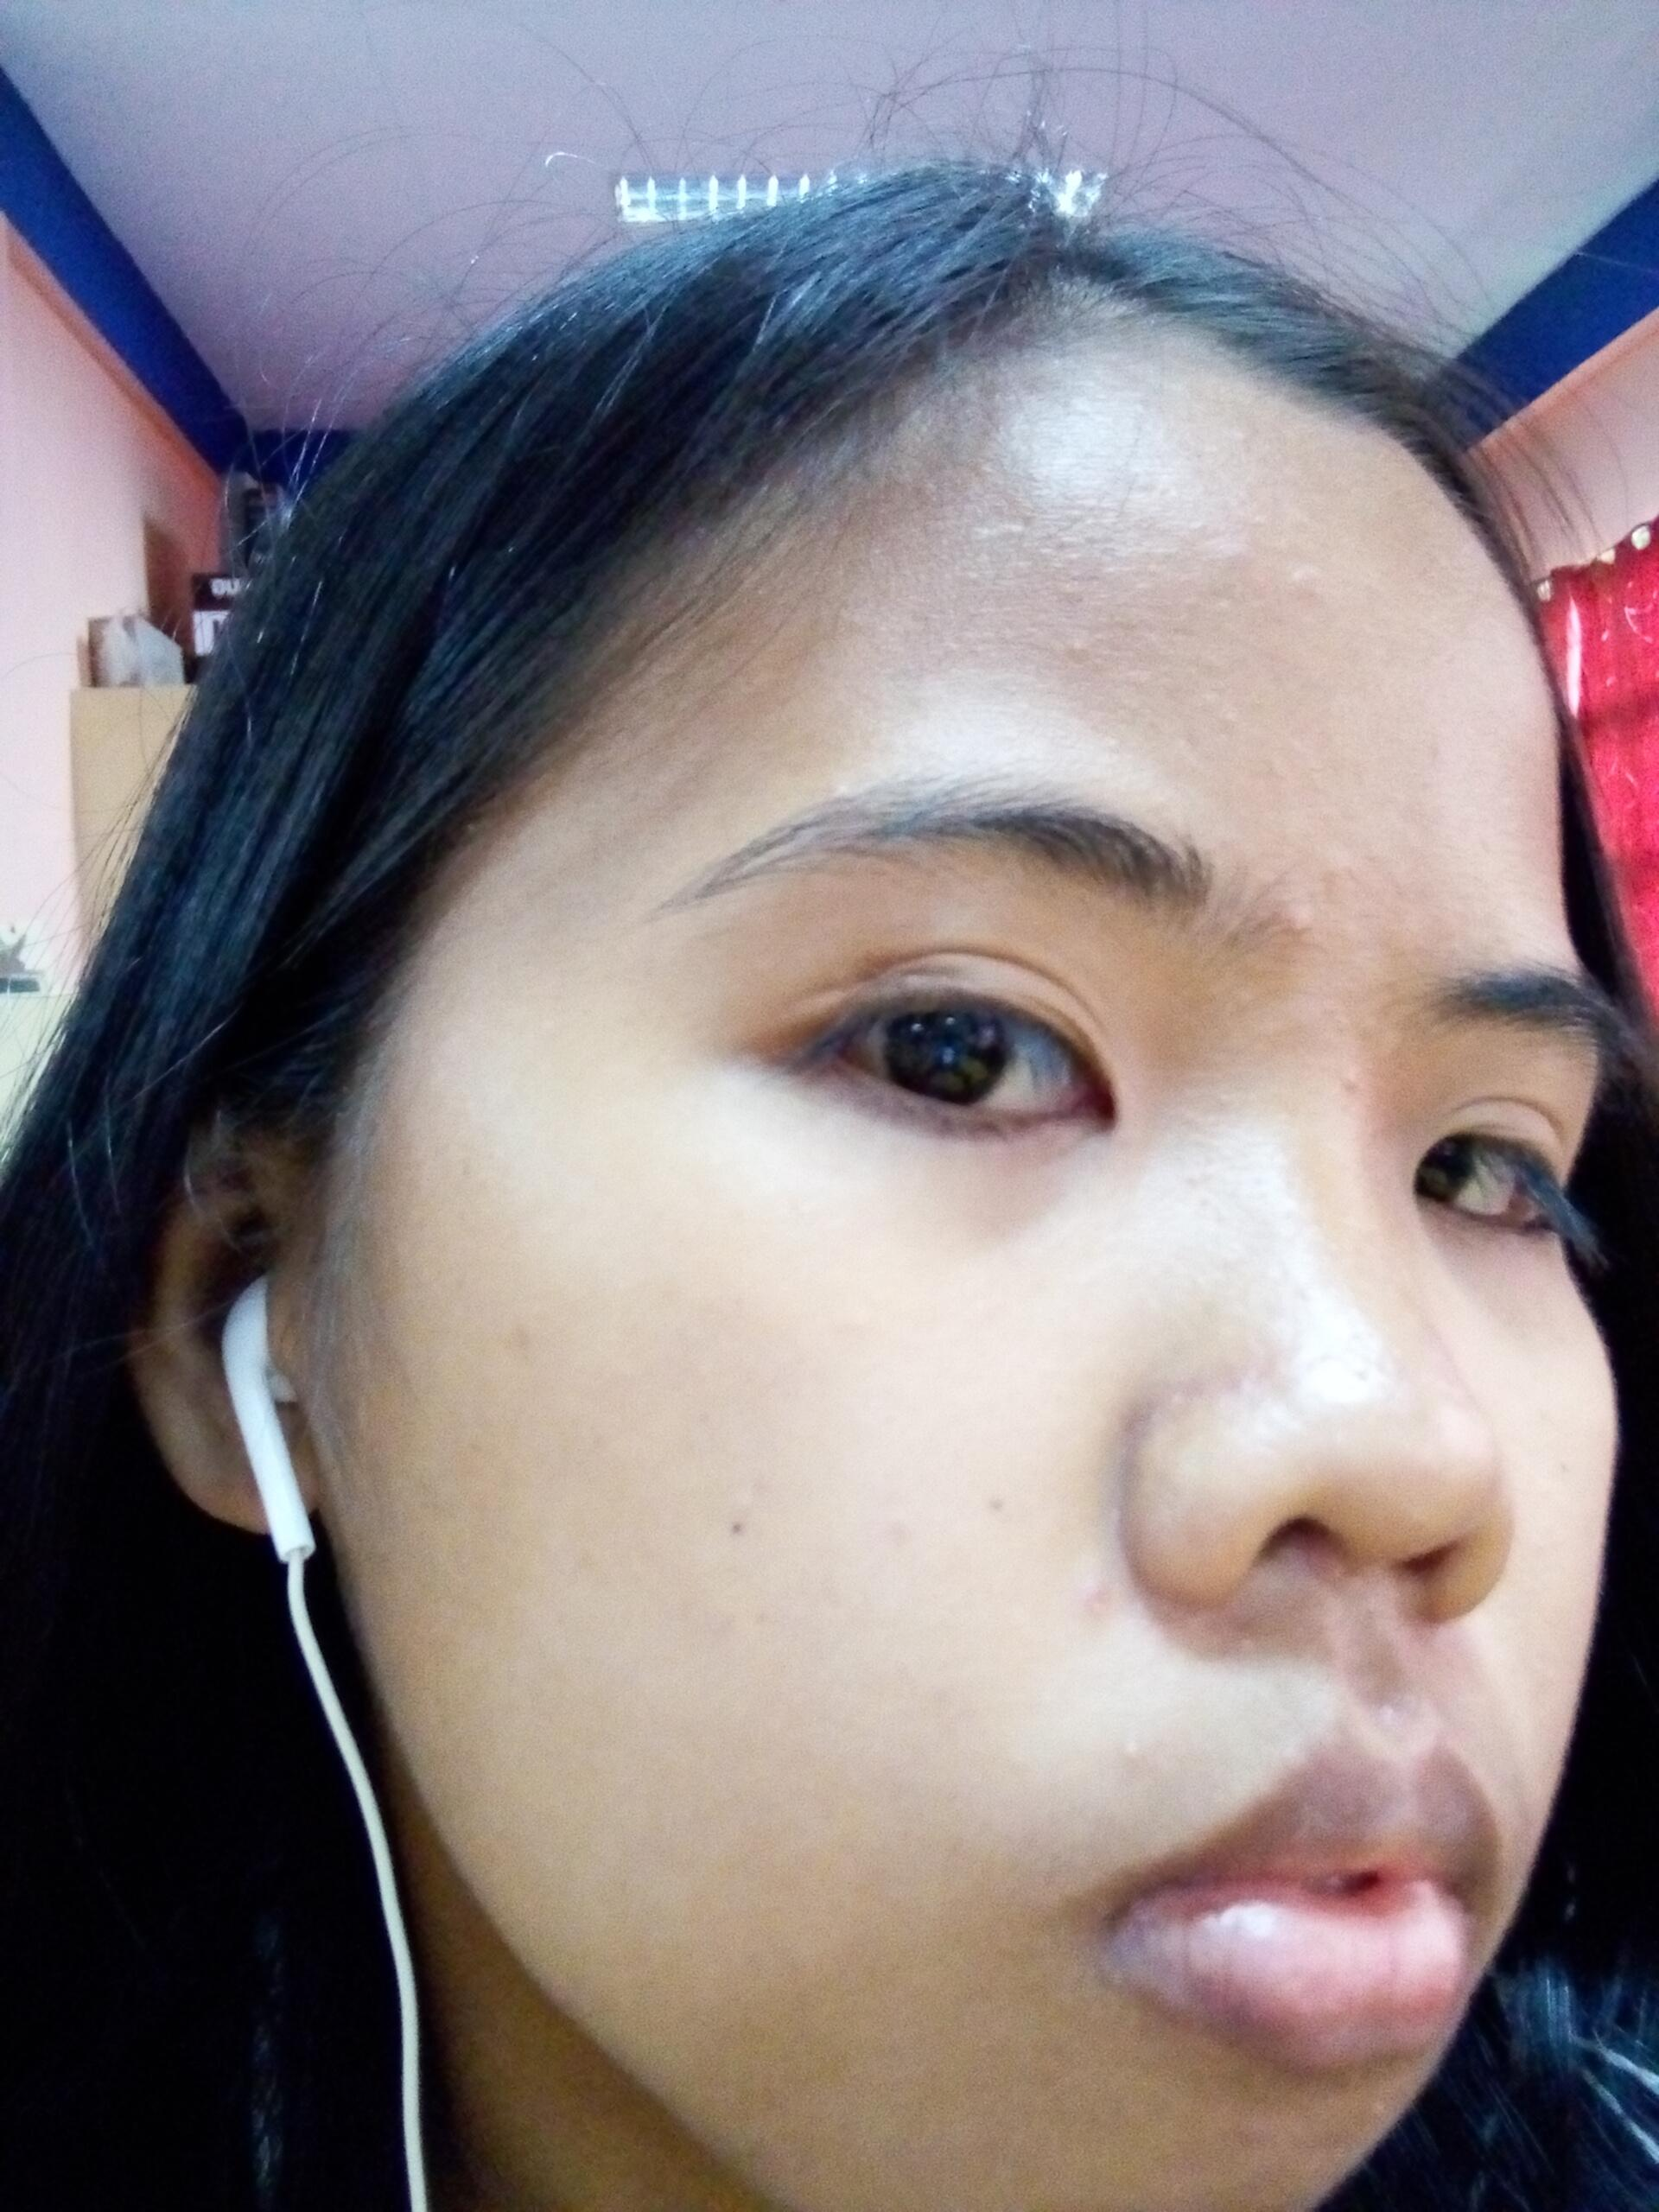Acne: (1073, 1575, 1133, 1644), (1101, 1702, 1140, 1796), (1232, 1618, 1256, 1688), (1302, 888, 1319, 958), (1072, 636, 1110, 660), (1347, 1075, 1366, 1089)
